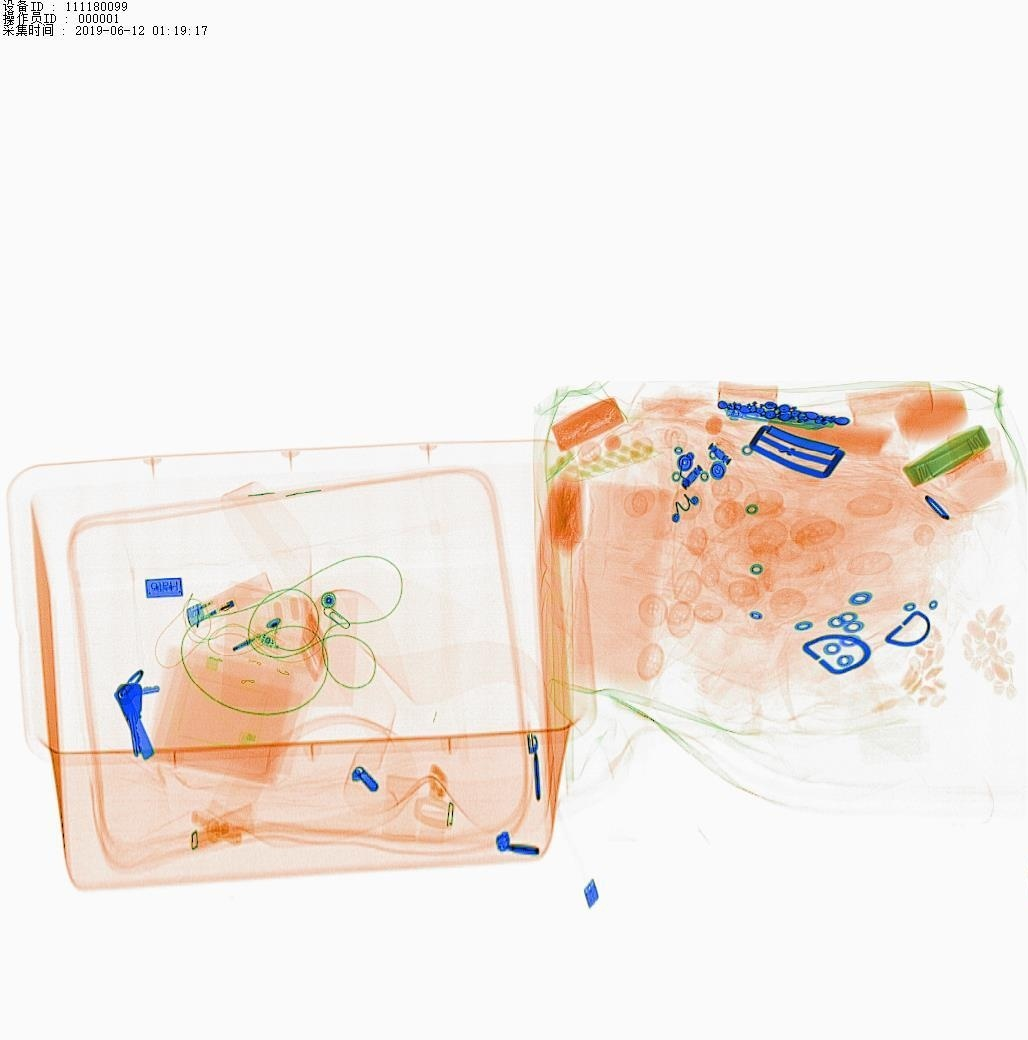NonmetallicFire: (148, 566, 302, 652)
